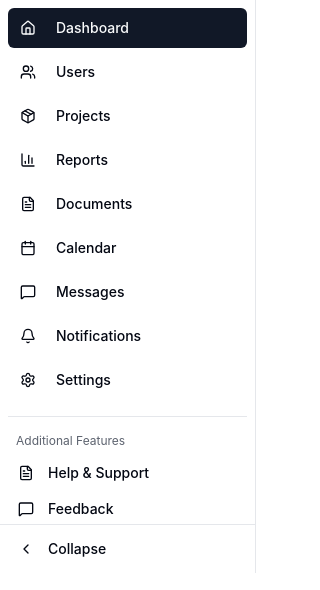
Test: LeftNavigation › collapses and expands the navigation
The width and height of the screenshot is (320, 590).
What coordinates should you click on to do the following:
click the button "Collapse"
I would click on:
 (128, 549)
Its box is [8, 533, 247, 565].
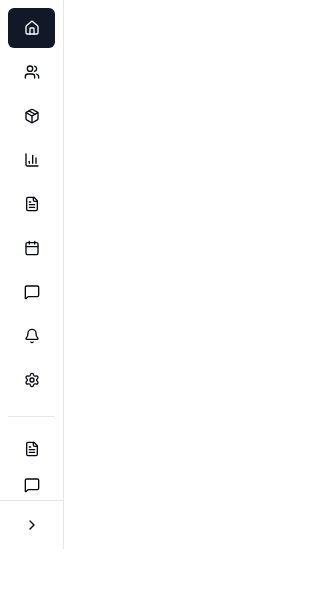
Result: the button "Dashboard" is gone
Result: the button "Help & Support" is gone
What coordinates should you click on to do the following:
click the button named "expand"
I would click on:
 (32, 525)
Its box is [8, 509, 55, 541].
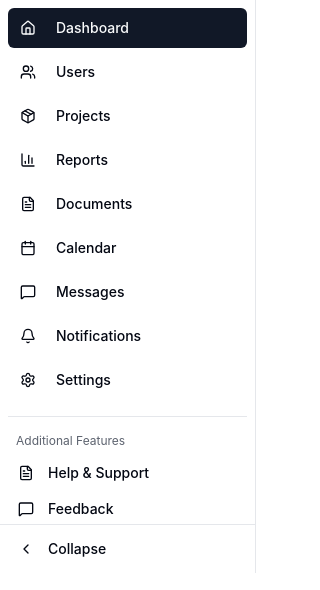
Result: the button "Dashboard" is shown at [8, 8, 247, 48]
